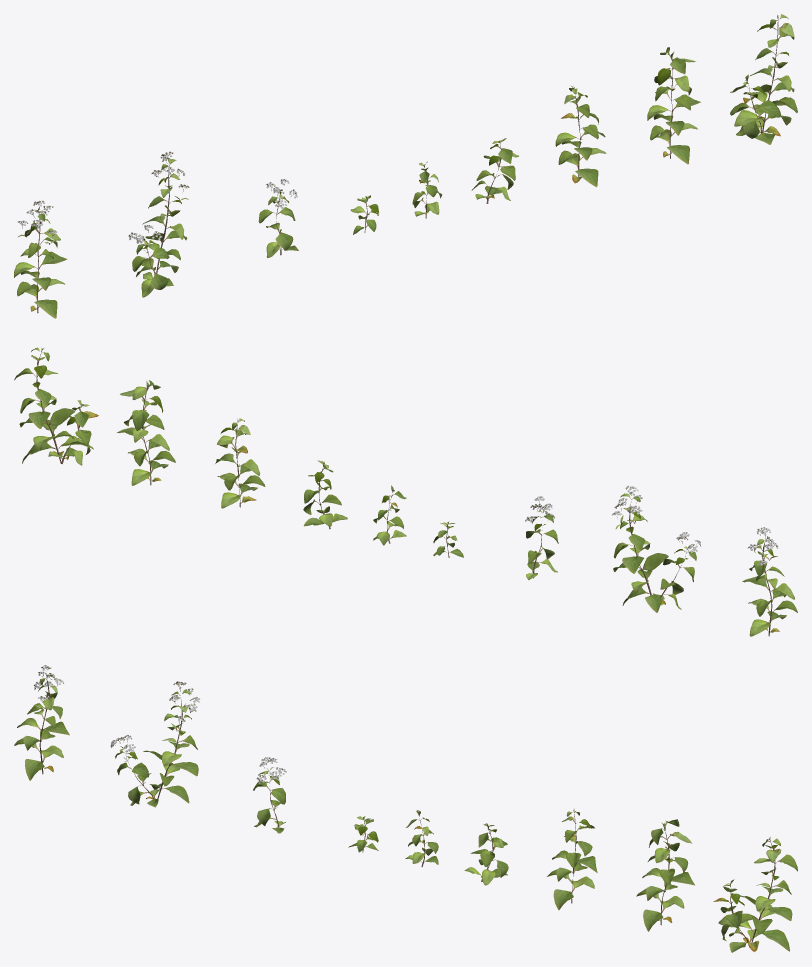
3 views of the same model, one above another, from view 1: azimuth 30°, elevation 25°; view 2: azimuth 150°, elevation 25°; view 3: azimuth 330°, elevation 25° (orthographic). The views are drawn at different scales.
Parts seen in each view (by area): view 1: shrub_01_a; view 2: shrub_01_a; view 3: shrub_01_a.
Boxes of the visible parts, x1=… form: shrub_01_a: x1=14, y1=14, x2=797, y2=318; shrub_01_a: x1=14, y1=347, x2=797, y2=636; shrub_01_a: x1=14, y1=665, x2=797, y2=952.
Size of the model in its own units: 2.59 by 0.3955 by 0.2182.
Materials: 1 (1 with a texture image).
